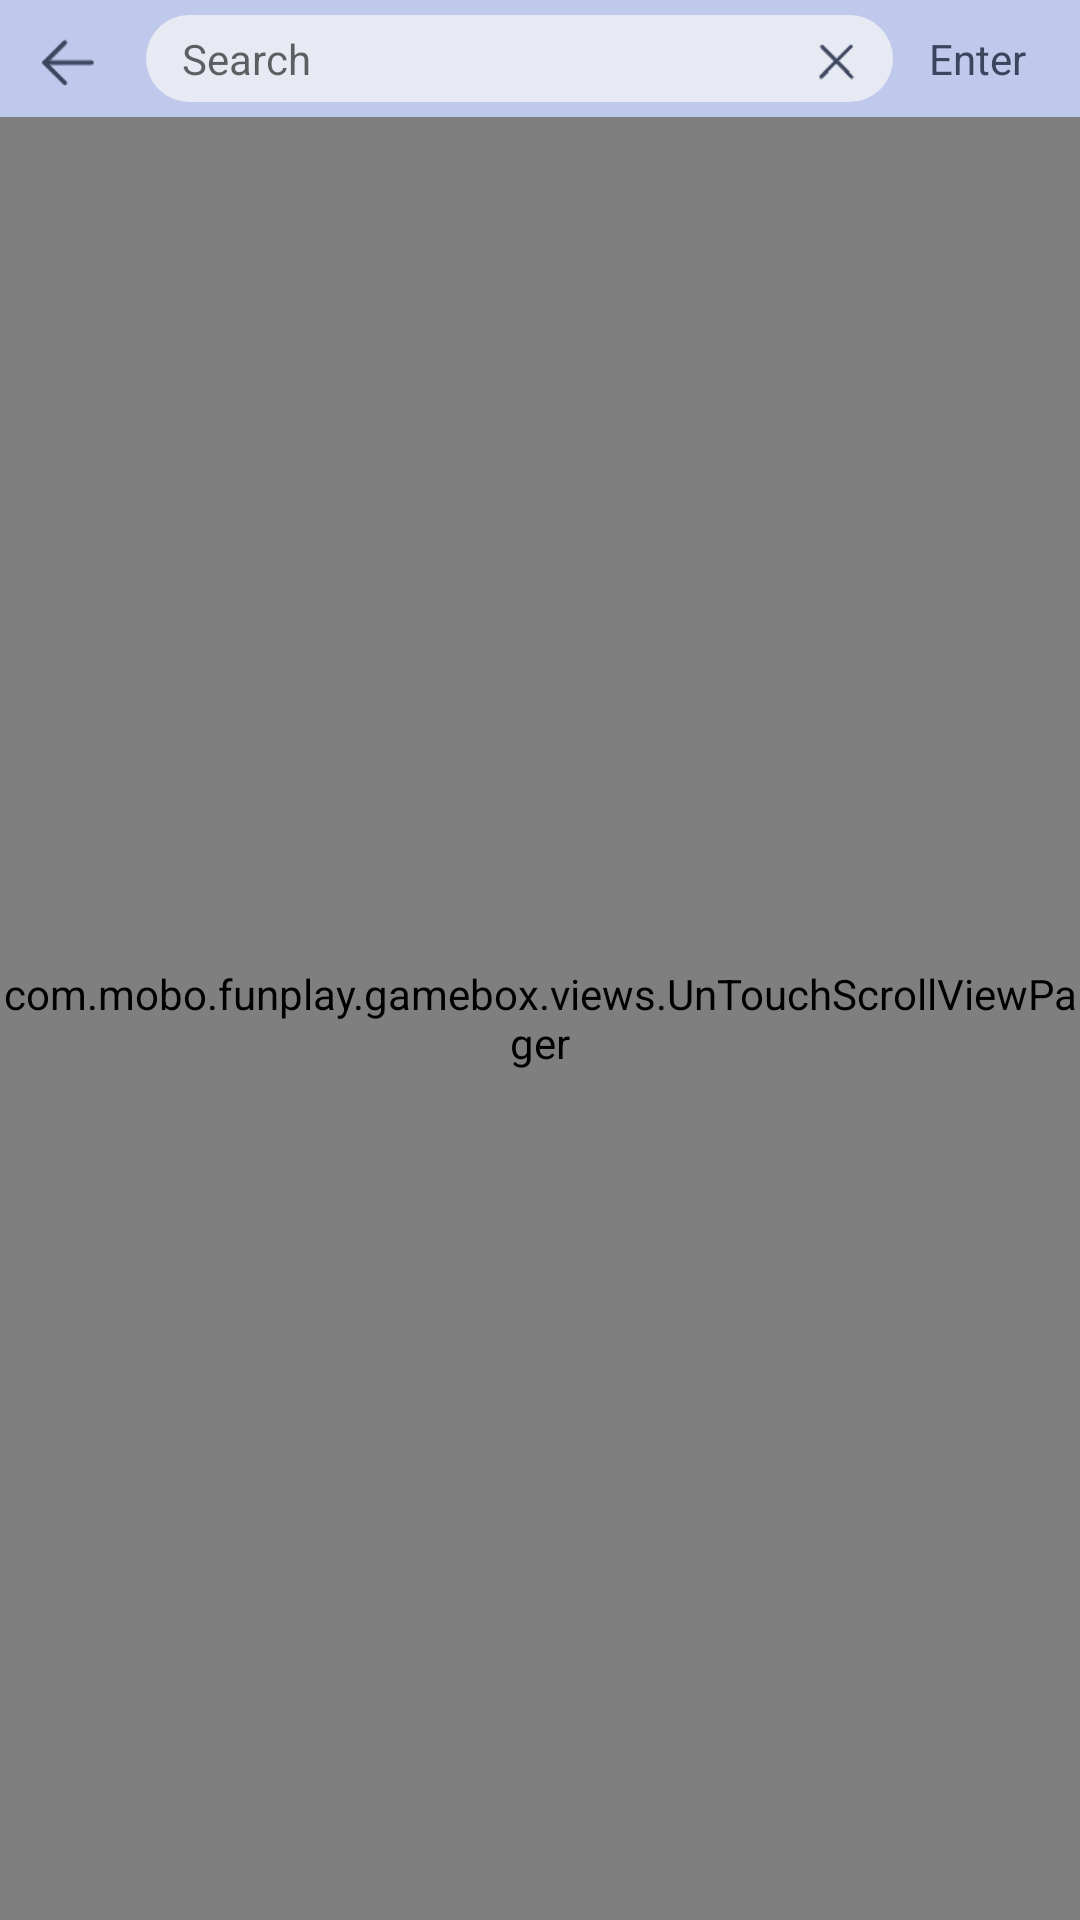

Icon click points for this 1080×1920 phone screenshot, format point (x, y):
back: point (68, 62)
close: point (836, 62)
